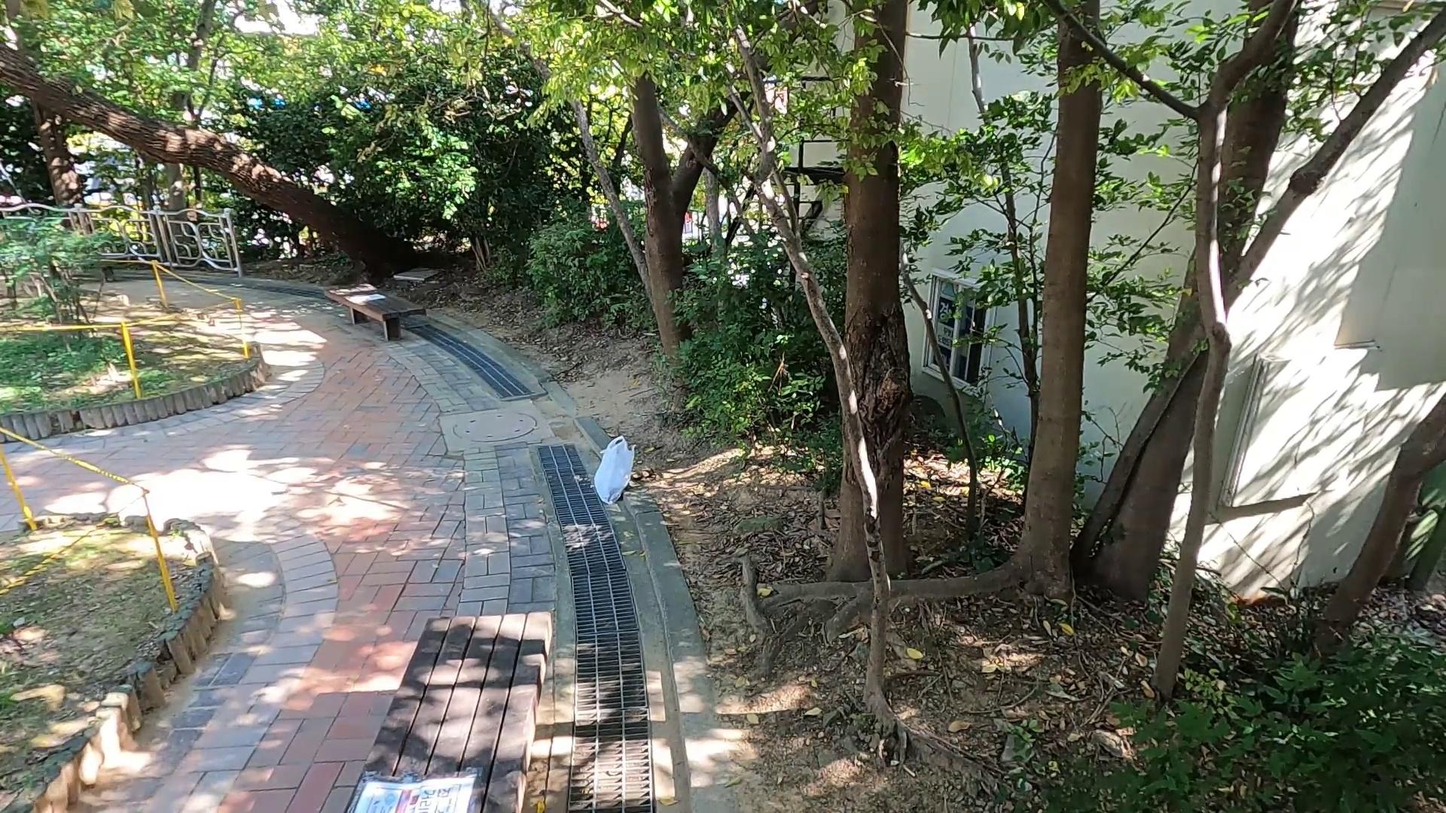trash: (592, 426, 636, 509)
